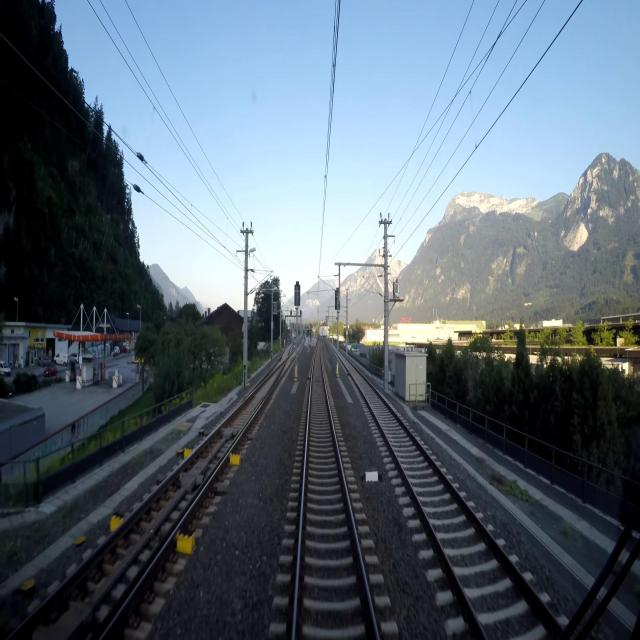rail-track: (12, 369, 278, 639), (342, 356, 560, 639), (295, 347, 375, 639)
